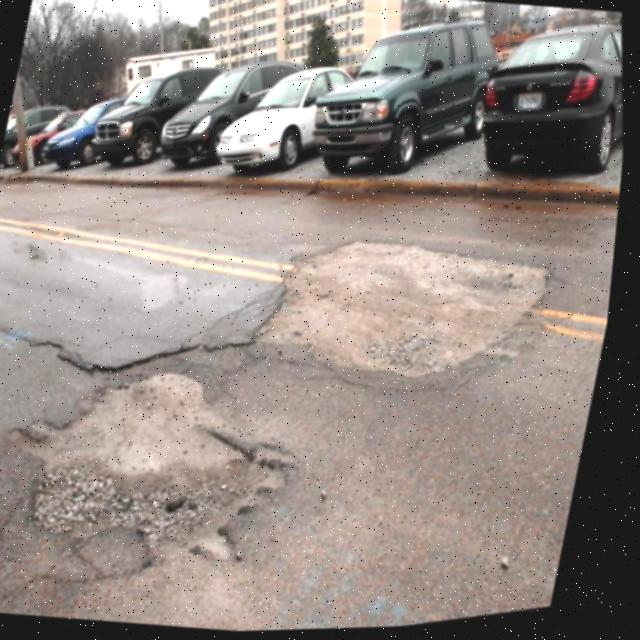Pothole: (0, 315, 343, 625), (227, 181, 591, 432)
